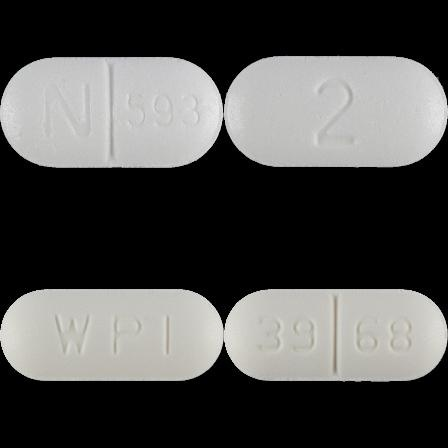42254-075: (0, 0, 224, 224)
